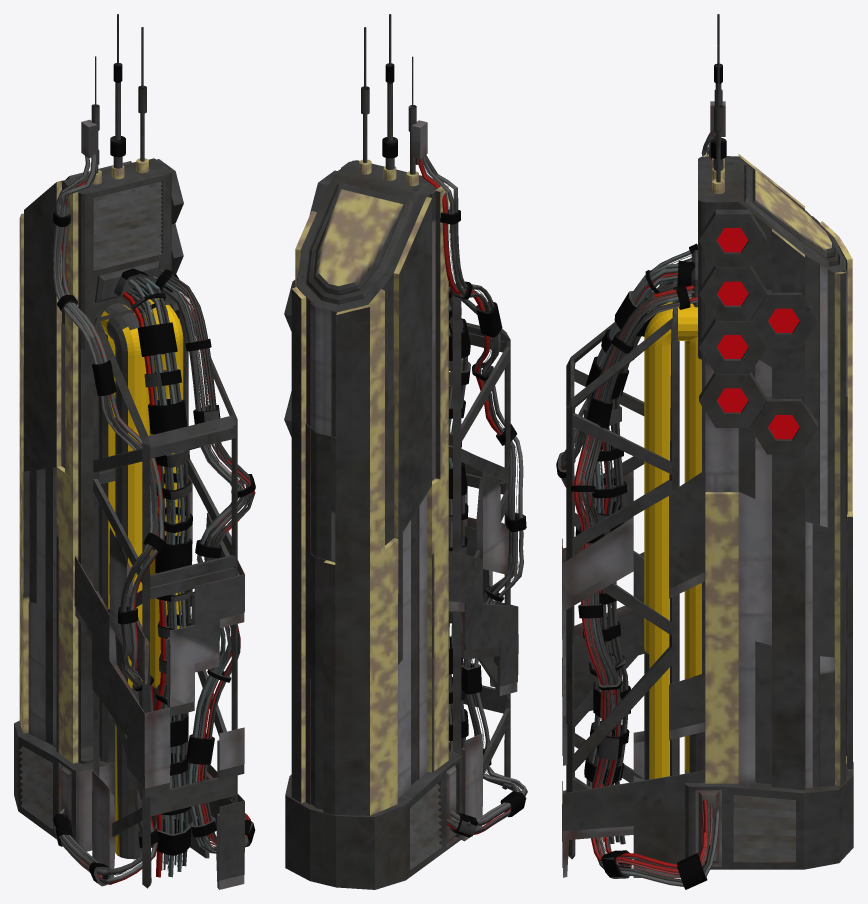
Rendered from IndustrialTower.glb.
3 views of the same model, side by side, from view 1: azimuth 30°, elevation 25°; view 2: azimuth 150°, elevation 25°; view 3: azimuth 270°, elevation 25° (orthographic).
Visible parts, largest first — view 1: Pilon_Baked; view 2: Pilon_Baked; view 3: Pilon_Baked.
Boxes of the visible parts, x1,y1,x2,y2 form: Pilon_Baked: (14, 14, 255, 889); Pilon_Baked: (284, 14, 527, 889); Pilon_Baked: (556, 14, 853, 889).
Size of the model in its own units: 11.79 by 52.51 by 16.81.
Materials: 1 (1 with a texture image).
